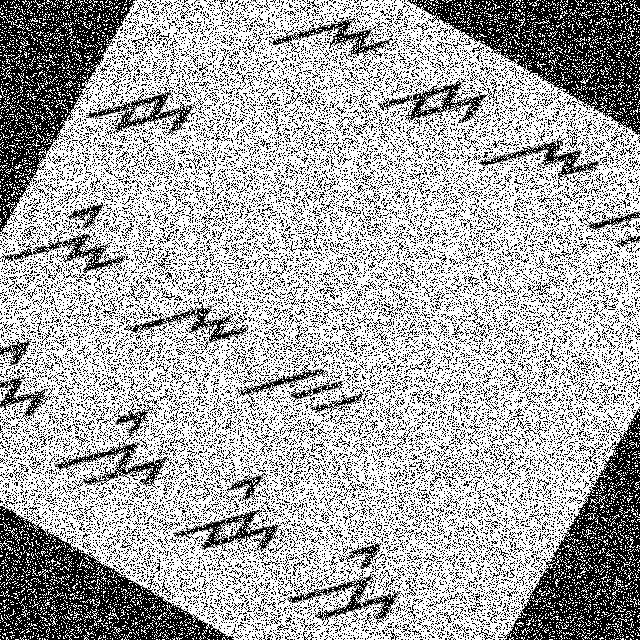ja: (74, 45, 207, 169), (374, 44, 494, 156)
ji: (165, 447, 307, 590), (0, 295, 79, 458)
nya: (123, 263, 260, 392), (474, 98, 610, 225), (262, 0, 398, 108)
nyi: (0, 168, 150, 318)
sa: (582, 156, 639, 282), (152, 0, 290, 47)
si: (48, 376, 192, 529), (275, 510, 426, 639)
